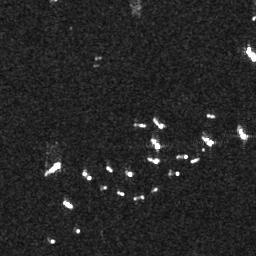ship: (44, 161, 63, 177), (245, 45, 256, 63), (236, 126, 249, 141), (201, 134, 214, 148), (151, 137, 162, 153), (153, 117, 167, 129), (80, 169, 93, 181), (175, 152, 188, 160), (63, 199, 73, 209), (148, 157, 162, 164), (125, 170, 136, 178), (134, 121, 146, 128), (133, 194, 145, 201), (206, 112, 215, 118), (106, 165, 113, 172), (117, 190, 125, 196), (191, 158, 200, 163)
